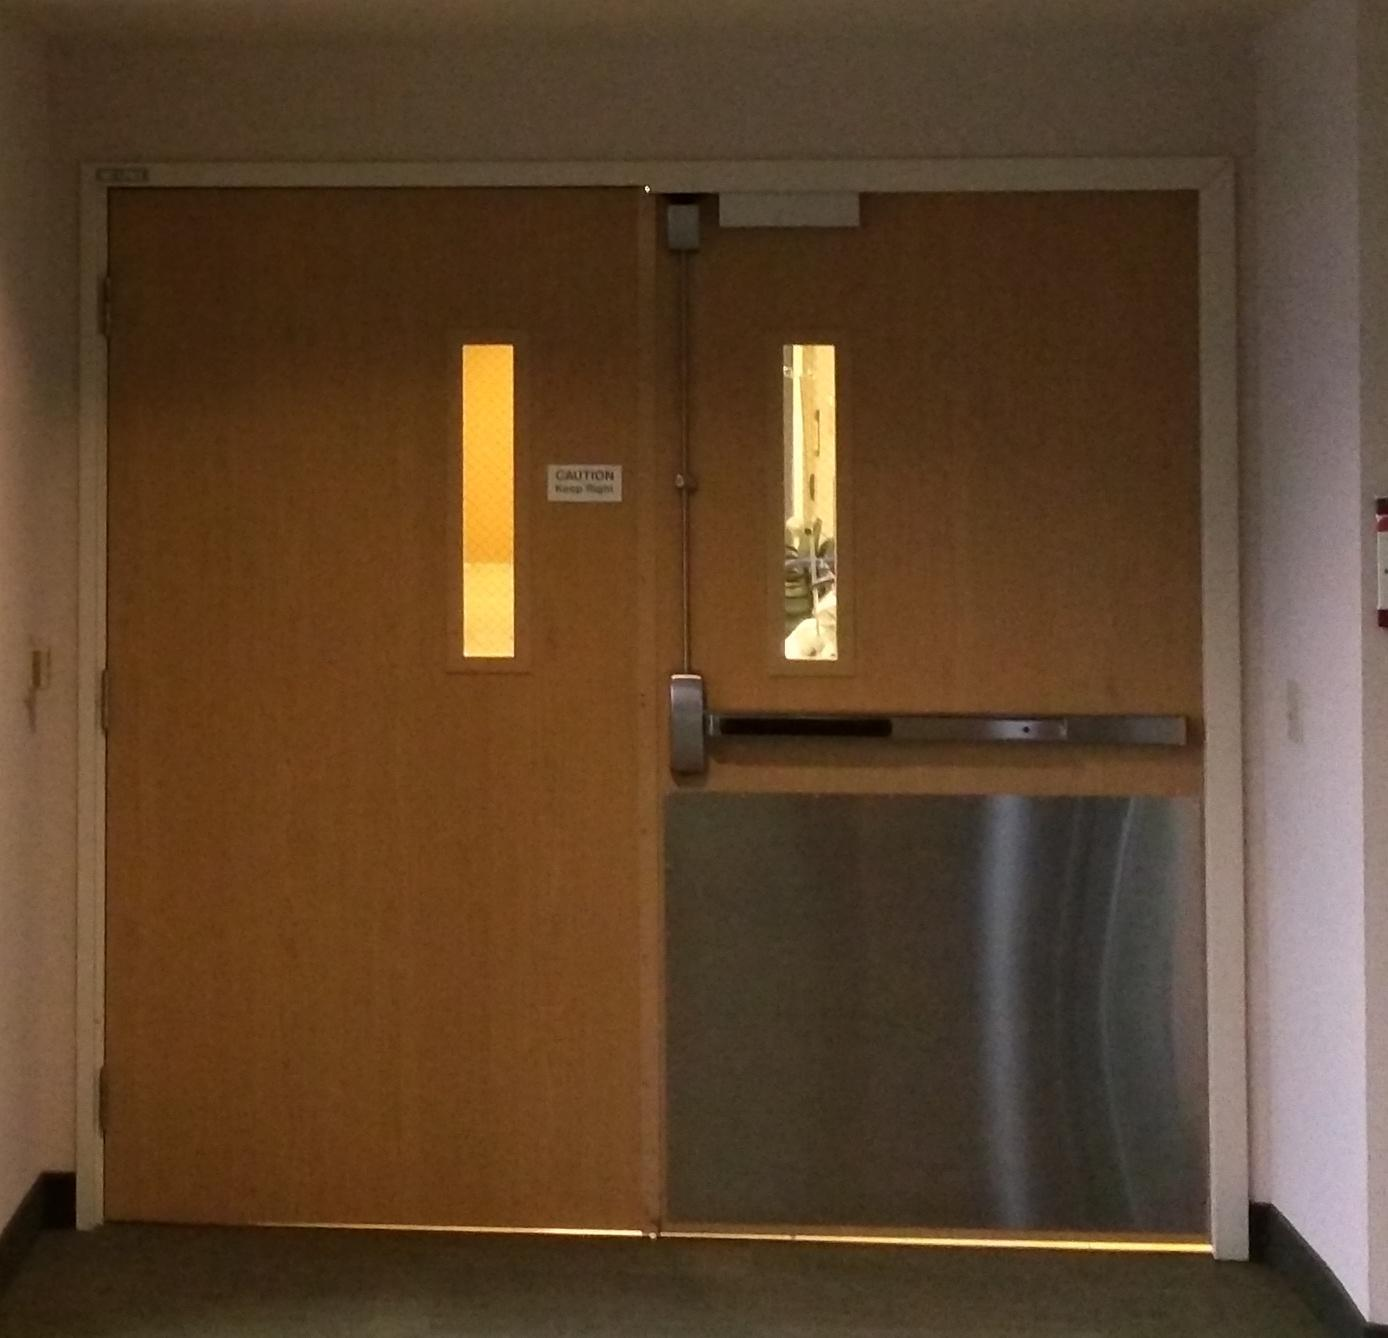door: (94, 171, 1216, 1253)
